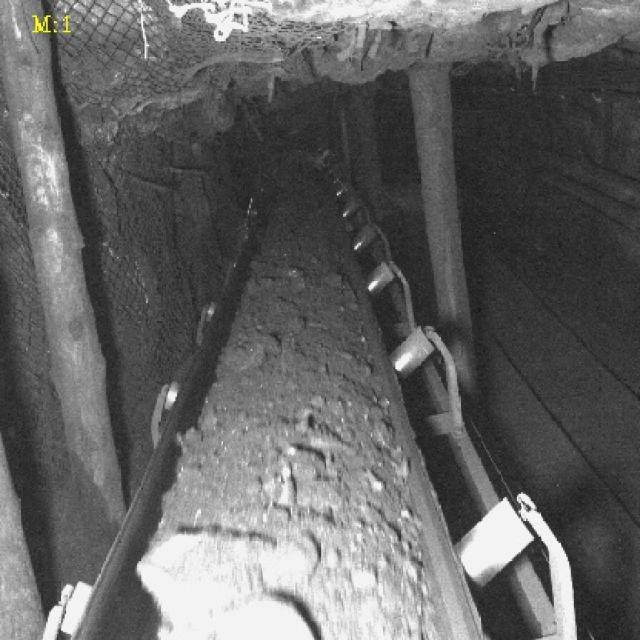large_sized_coal: (136, 529, 264, 637), (218, 592, 318, 640)
